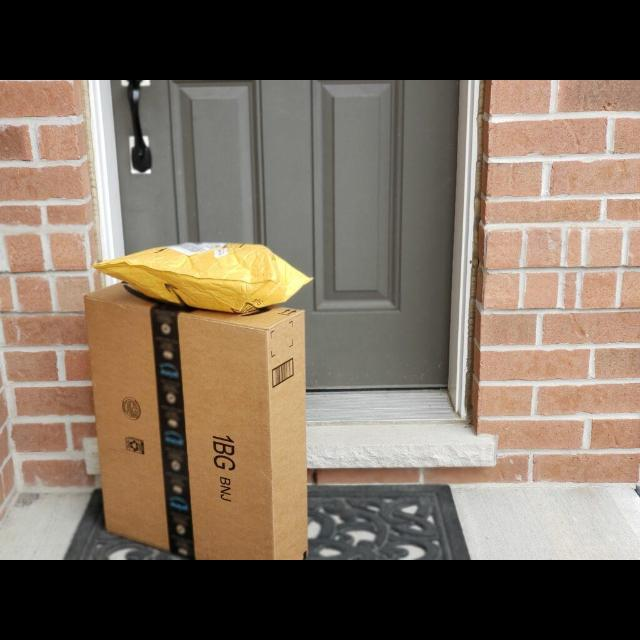box: (83, 278, 309, 560)
mailer: (93, 243, 311, 312)
